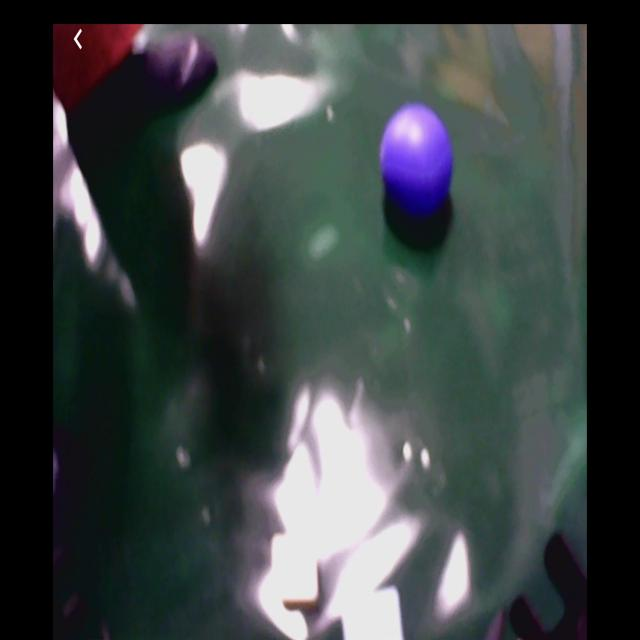ball: (380, 106, 454, 217)
